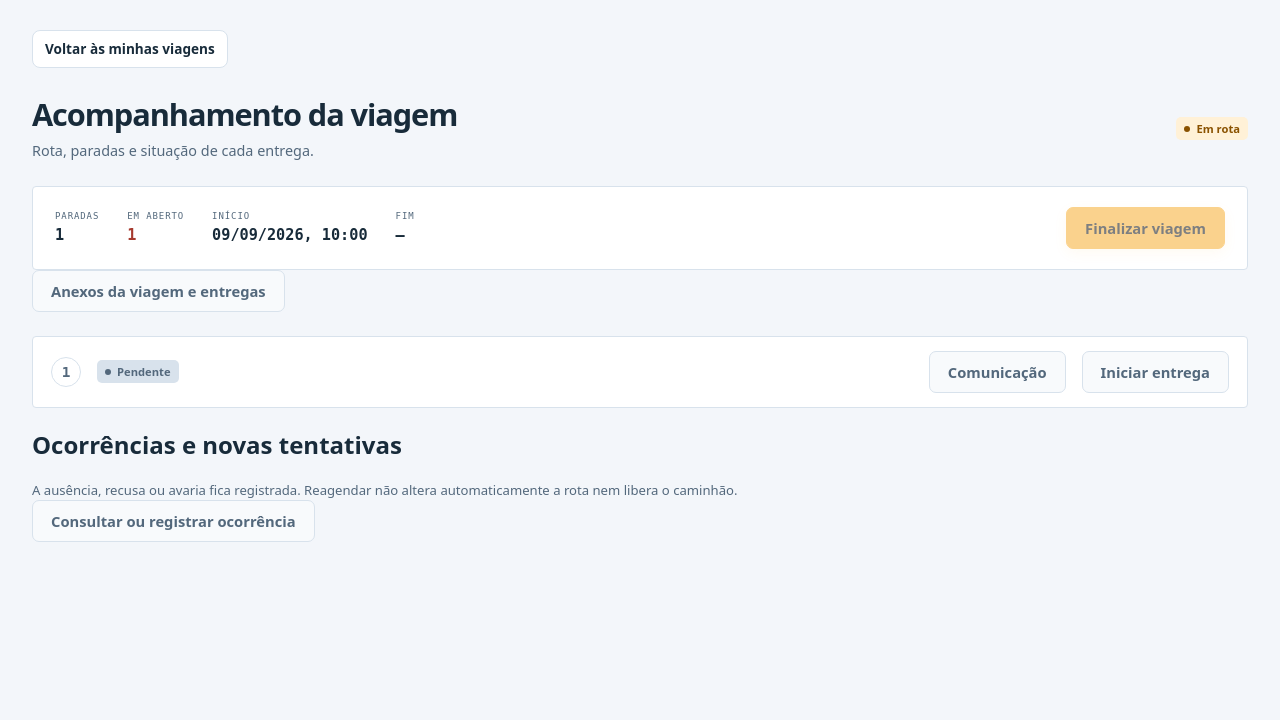
Test case: TripPage com adapter e hook reais › trata falha do GET após PATCH e mantém o último estado conhecido sem TypeError
Click the button "Iniciar entrega".
click(1155, 372)  # box x1=1082 y1=351 x2=1229 y2=393
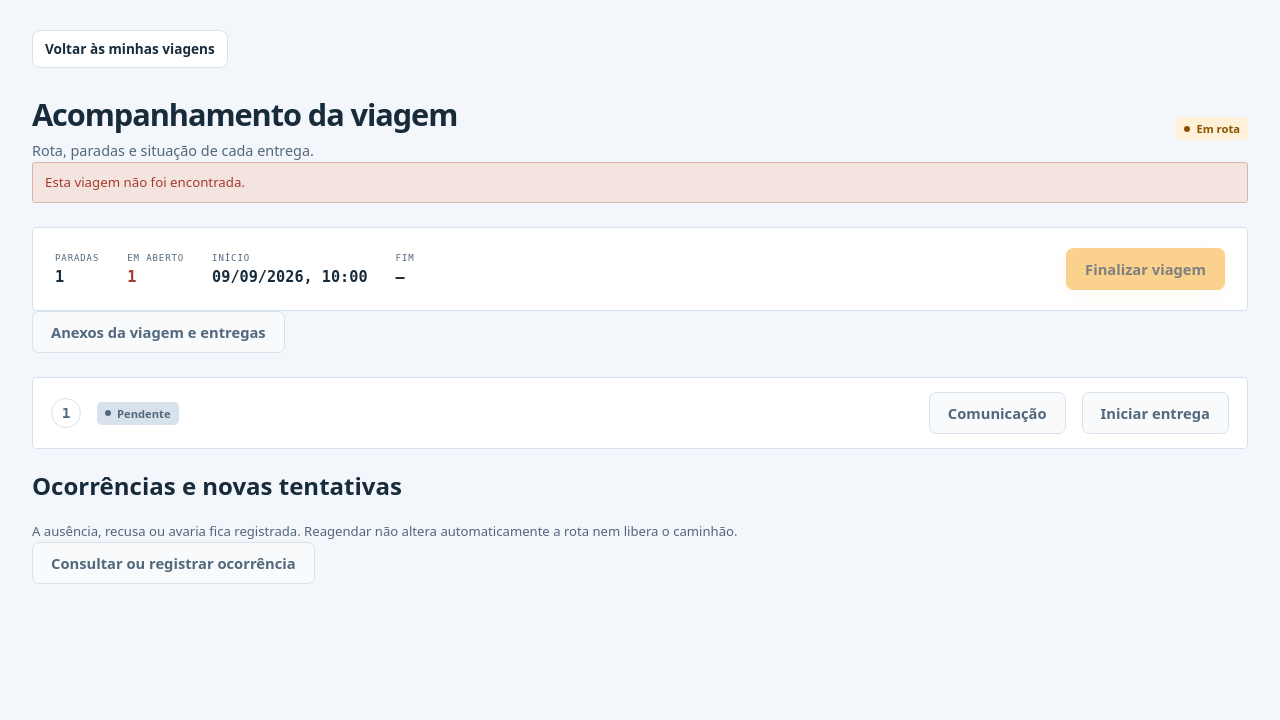
Expected: the button "Iniciar entrega" is enabled, x1=1082 y1=392 x2=1229 y2=434
Now the message reads "Esta viagem não foi encontrada.", box x1=45 y1=173 x2=245 y2=191
